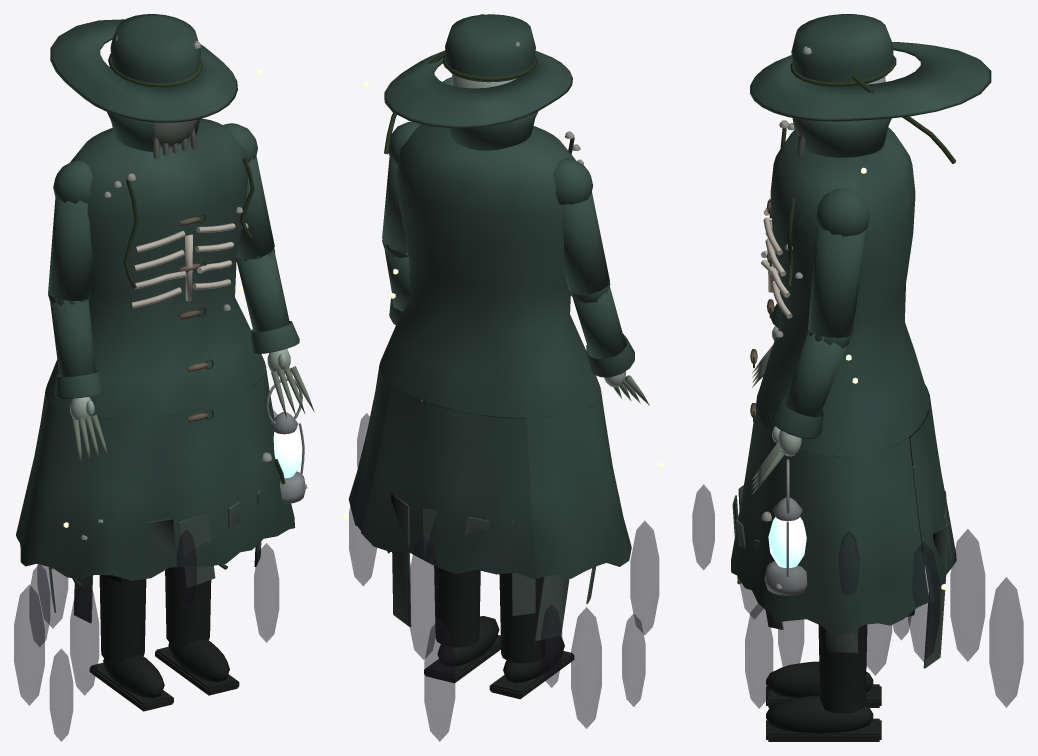
Rendered from drowned_keeper.glb.
The picture shows the model from 3 angles, left to right: view 1: azimuth 30°, elevation 25°; view 2: azimuth 150°, elevation 25°; view 3: azimuth 270°, elevation 25°; orthographic projection. The views are drawn at different scales.
Parts seen in each view (by area): view 1: Keeper_Root_SeaOilskin, HatPivot_SeaOilskin, Keeper_Root_HSmoke, ArmA_SeaOilskin, ArmB_SeaOilskin, LegA_Rubber, LegB_Rubber, Keeper_Root_HRag_141e19, Keeper_Root_HBone, ArmB_Tin, Keeper_Root_Seaweed, Head_MattedBeard (+5 smaller); view 2: Keeper_Root_SeaOilskin, SkirtT, Keeper_Root_HSmoke, HatPivot_SeaOilskin, ArmA_SeaOilskin, LegB_Rubber, Keeper_Root_HRag_141e19, LegA_Rubber, ArmB_SeaOilskin, HatPivot_Seaweed; view 3: Keeper_Root_SeaOilskin, Keeper_Root_HSmoke, HatPivot_SeaOilskin, ArmB_SeaOilskin, LegB_Rubber, SkirtT, Keeper_Root_HRag_141e19, LegA_Rubber, ArmB_Tin, LampGlobe, Keeper_Root_HBone, HatPivot_Seaweed (+2 smaller).
Boxes of the visible parts, x1,y1,x2,y2 form: Keeper_Root_SeaOilskin: (16,112,295,580); HatPivot_SeaOilskin: (50,14,237,122); Keeper_Root_HSmoke: (14,410,279,741); ArmA_SeaOilskin: (48,160,104,398); ArmB_SeaOilskin: (223,123,299,353); LegA_Rubber: (89,575,173,711); LegB_Rubber: (155,567,239,695); Keeper_Root_HRag_141e19: (48,489,261,623); Keeper_Root_HBone: (132,223,235,308); ArmB_Tin: (266,377,305,503); Keeper_Root_Seaweed: (72,157,285,588); Head_MattedBeard: (152,119,197,159); Keeper_Root_SeaOilskin: (348,77,631,578); SkirtT: (361,386,535,579); Keeper_Root_HSmoke: (349,413,659,741); HatPivot_SeaOilskin: (384,14,572,128); ArmA_SeaOilskin: (553,158,634,377); LegB_Rubber: (424,566,500,683); Keeper_Root_HRag_141e19: (387,493,596,640); LegA_Rubber: (489,573,574,699); ArmB_SeaOilskin: (382,121,420,324); HatPivot_Seaweed: (384,50,537,154); Keeper_Root_SeaOilskin: (731,118,929,635); Keeper_Root_HSmoke: (692,484,1023,708); HatPivot_SeaOilskin: (750,14,991,121); ArmB_SeaOilskin: (770,188,869,439); LegB_Rubber: (766,624,881,741); SkirtT: (910,385,956,602); Keeper_Root_HRag_141e19: (732,466,952,668); LegA_Rubber: (766,661,881,707); ArmB_Tin: (764,458,807,595); LampGlobe: (768,517,806,567); Keeper_Root_HBone: (761,207,792,318); HatPivot_Seaweed: (790,55,955,163).
Size of the model in its own units: 0.7822 by 1.86 by 0.7819.
